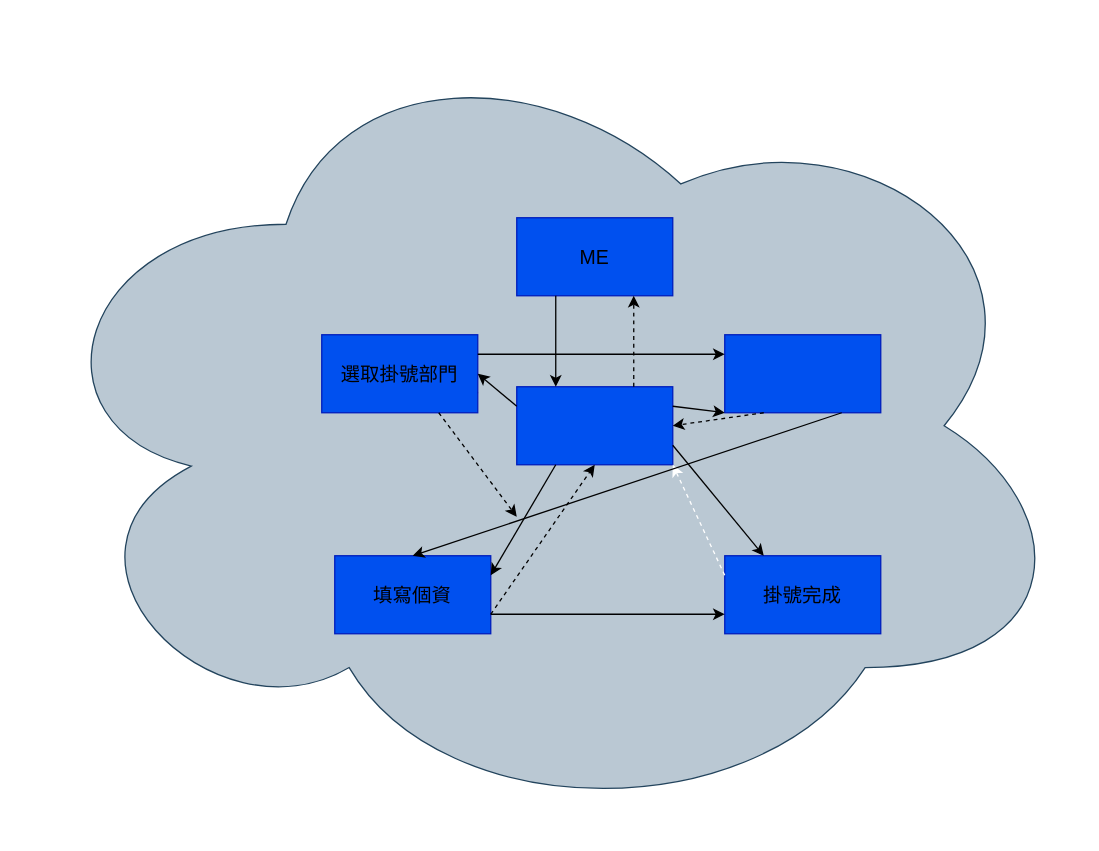
Image size: 1099x851. Some labels were removed from this diagram. The centre of each missing label's shape, as x and y in pixels:
亞東醫院掛號網站: (594,425)
選擇看診時間: (802,373)
